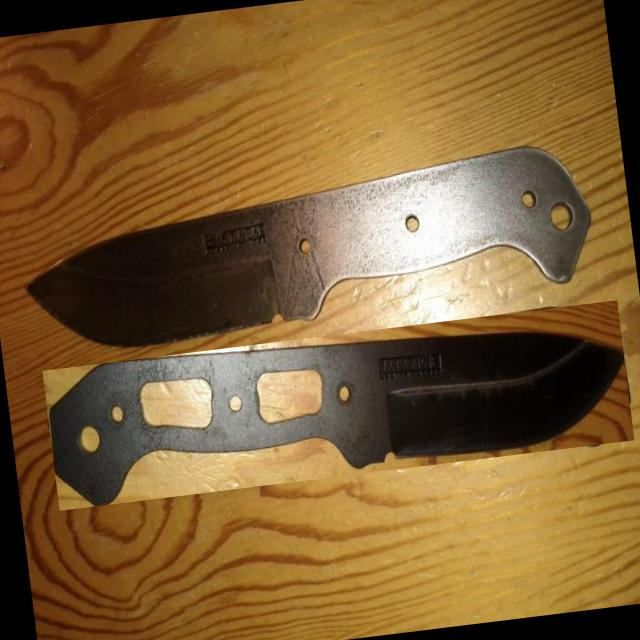Knife: (28, 147, 589, 346), (51, 332, 624, 505)
